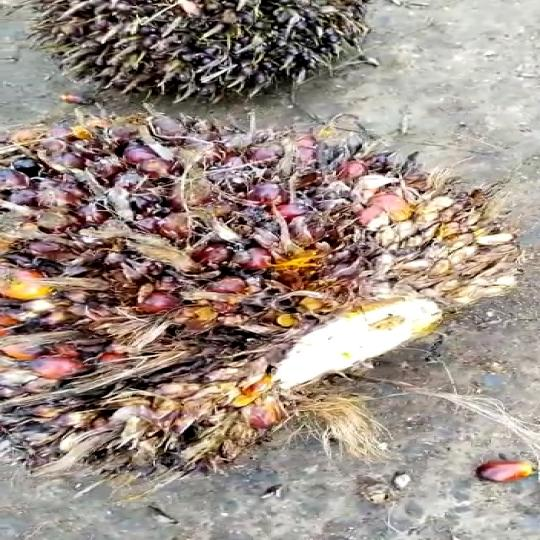masak: (0, 112, 532, 490)
